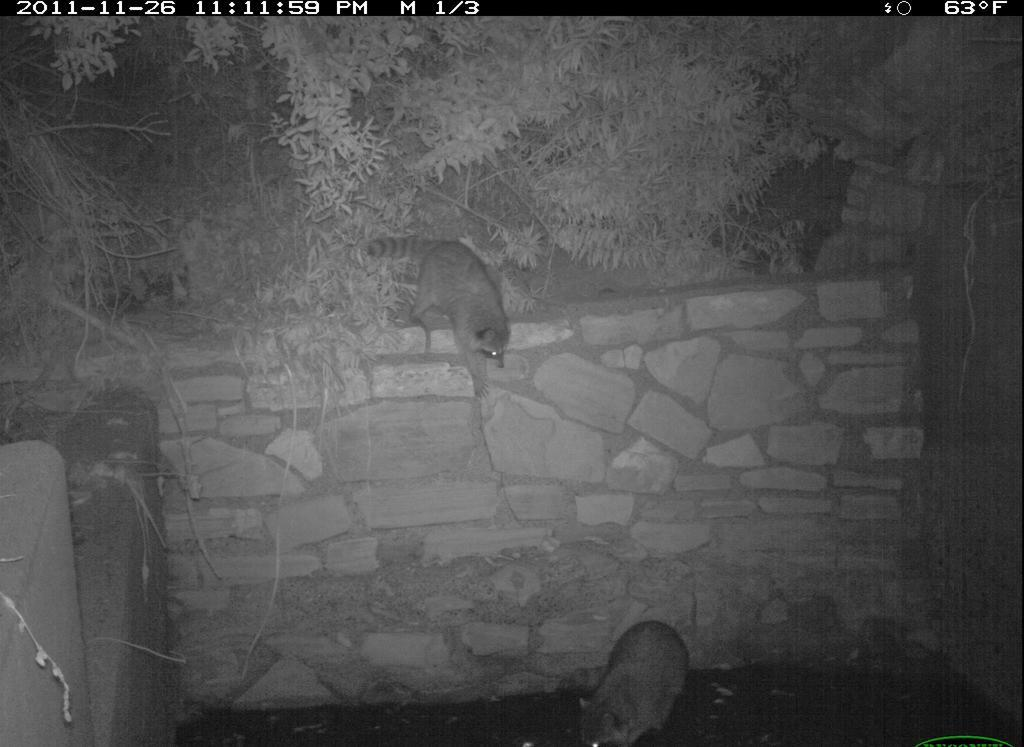raccoon: (364, 228, 516, 404), (574, 615, 697, 747)
